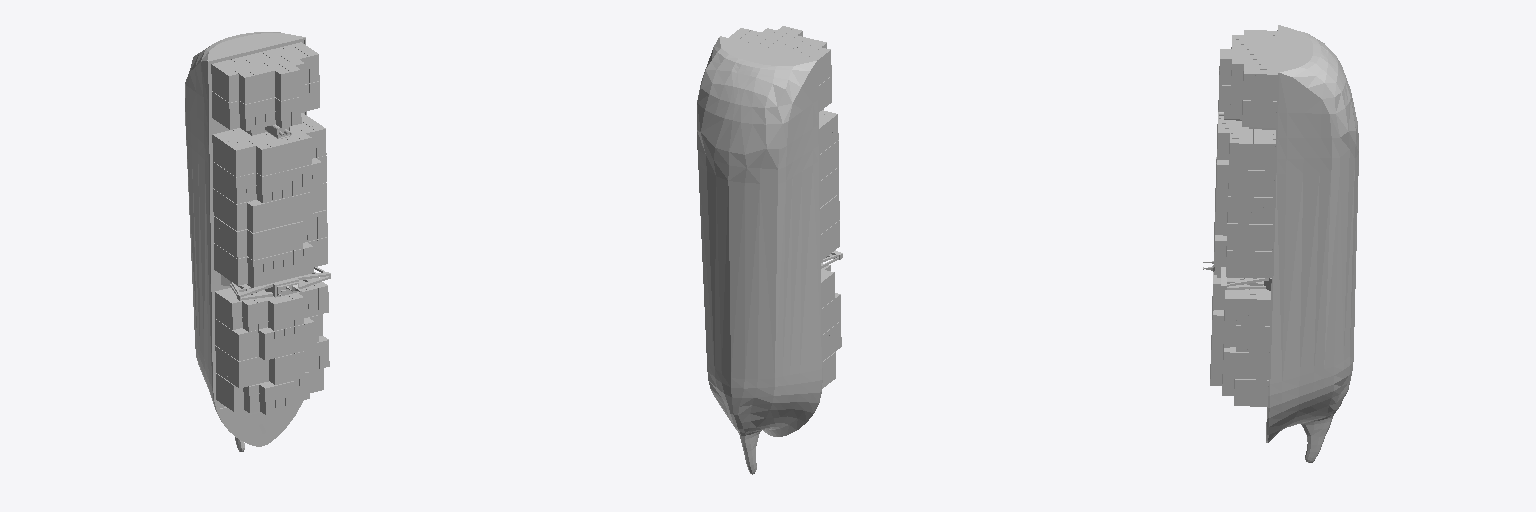
Rendered from Dodge Challenger SRT Hellcat 2015.obj.
The picture shows the model from 3 angles: view 1: azimuth 30°, elevation 25°; view 2: azimuth 150°, elevation 25°; view 3: azimuth 270°, elevation 25°; orthographic projection.
Parts seen in each view (by area): view 1: Ship_Plane; view 2: Ship_Plane; view 3: Ship_Plane.
Boxes of the visible parts, <box> form: Ship_Plane: <box>185,32,330,451</box>; Ship_Plane: <box>697,26,842,474</box>; Ship_Plane: <box>1203,25,1358,462</box>.
Size of the model in its own units: 130 by 525 by 182.